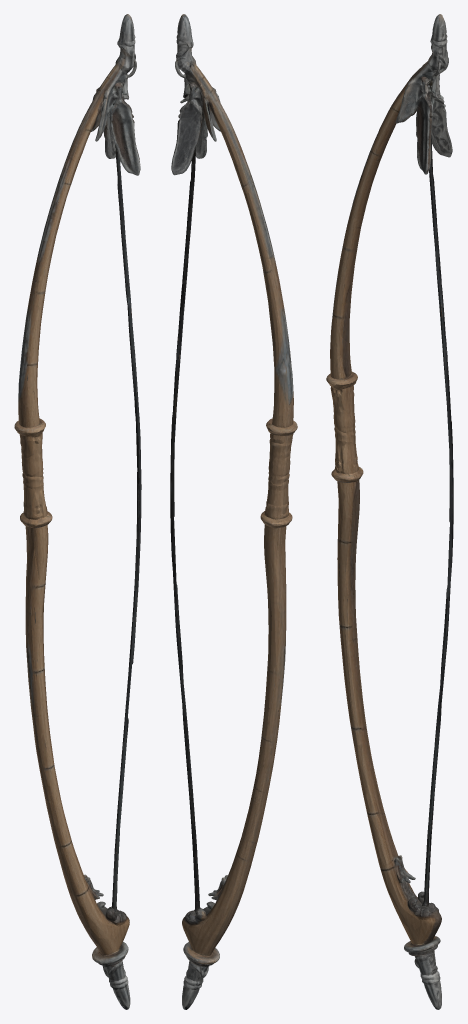
File: Meshy_AI_Weapon_elf_bow_01a0e88a_texture.glb
3 views of the same model, side by side, from view 1: azimuth 30°, elevation 25°; view 2: azimuth 150°, elevation 25°; view 3: azimuth 330°, elevation 25° (orthographic).
Size of the model in its own units: 0.2499 by 1.9 by 0.0879.
Materials: 1 (1 with a texture image).
